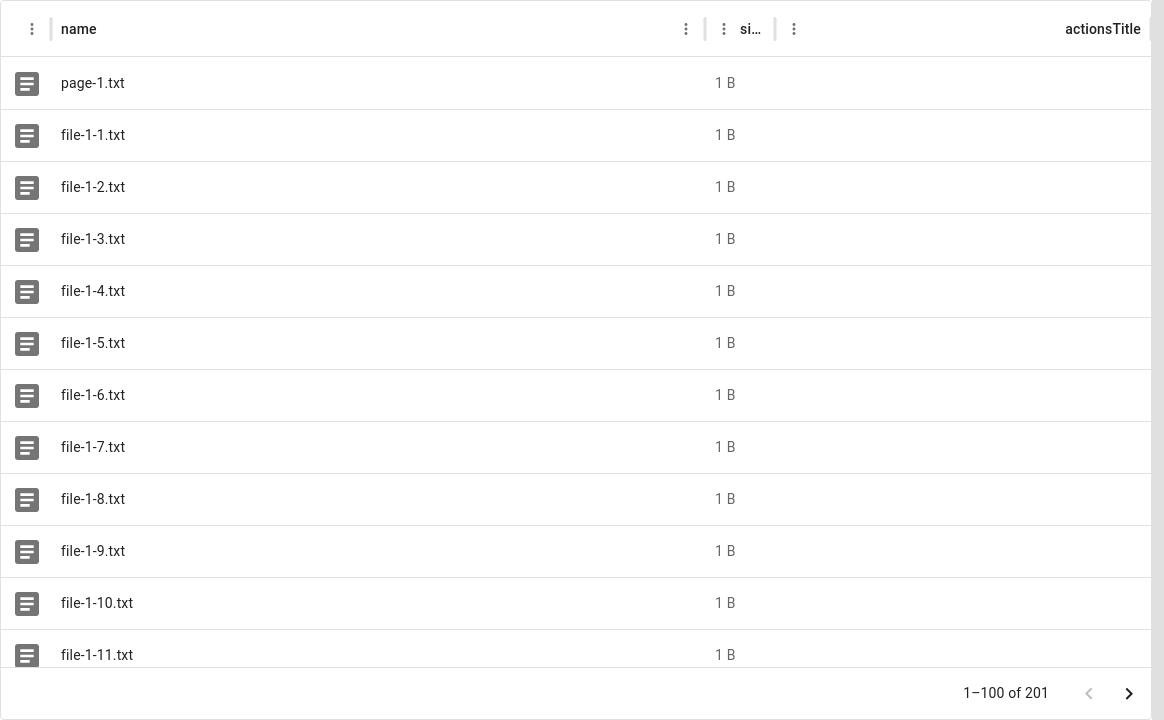
Test: keeps the requested page after the grid processes its controlled sort and filter models
Expected: the text "page-1.txt" is shown, 61,74 -> 125,94
Click the button named "Go to next page" at (1129, 694), box 1109,674 -> 1149,714
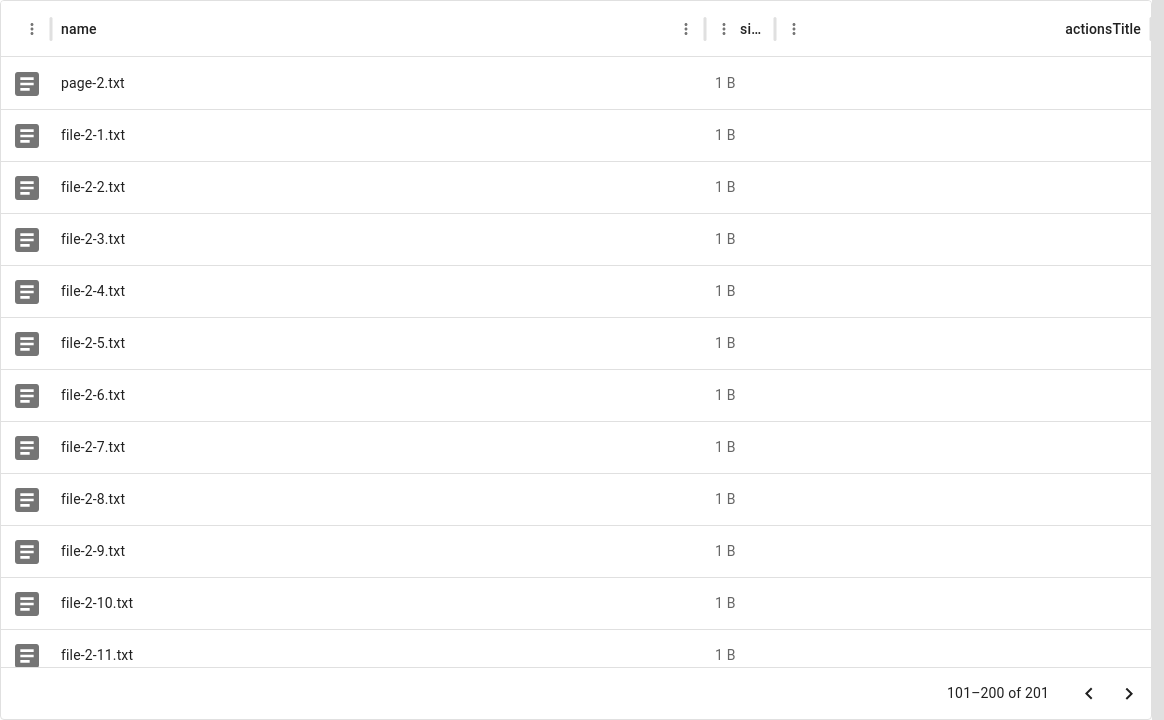
Now the text "page-2.txt" is shown, box 61,74 -> 125,94
Now the text "101–200 of 201" is shown, box 947,684 -> 1049,704
Now the button named "Go to previous page" is enabled, box 1069,674 -> 1109,714
